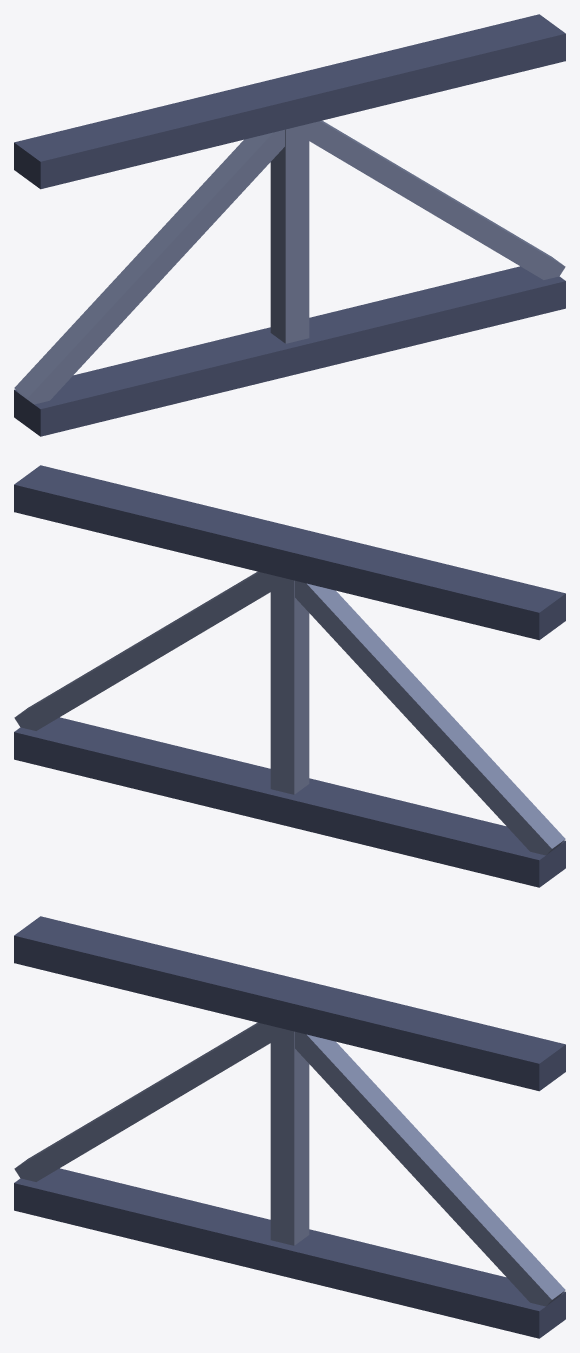
Rendered from Truss_8.fbx.
The picture shows the model from 3 angles, top to bottom: view 1: azimuth 30°, elevation 25°; view 2: azimuth 150°, elevation 25°; view 3: azimuth 330°, elevation 25°; orthographic projection.
Parts seen in each view (by area): view 1: Truss_8; view 2: Truss_8; view 3: Truss_8.
Part boxes in pixels (<box>): Truss_8: <box>14,14,565,436</box>; Truss_8: <box>14,465,565,887</box>; Truss_8: <box>14,916,565,1338</box>.
Size of the model in its own units: 8.19 by 4 by 0.7.
1 material, 1 textured.
